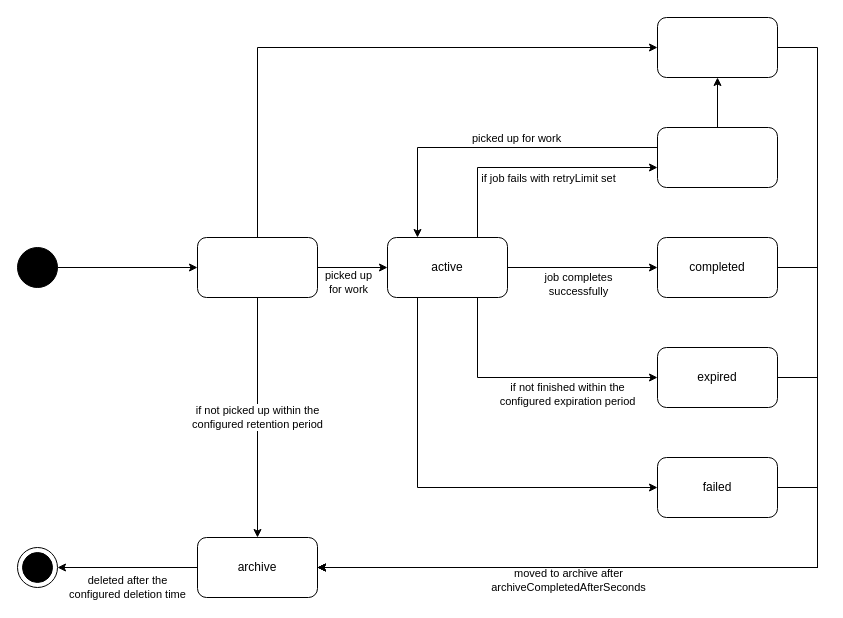
The diagram is 843 pixels wide and 618 high, and some of its shapes have lost their labels. Here are the shapes that lost their labels. From the top down, the box of each, then its label:
(656, 16, 778, 78): cancelled
(656, 126, 778, 188): retry
(196, 236, 318, 298): created
